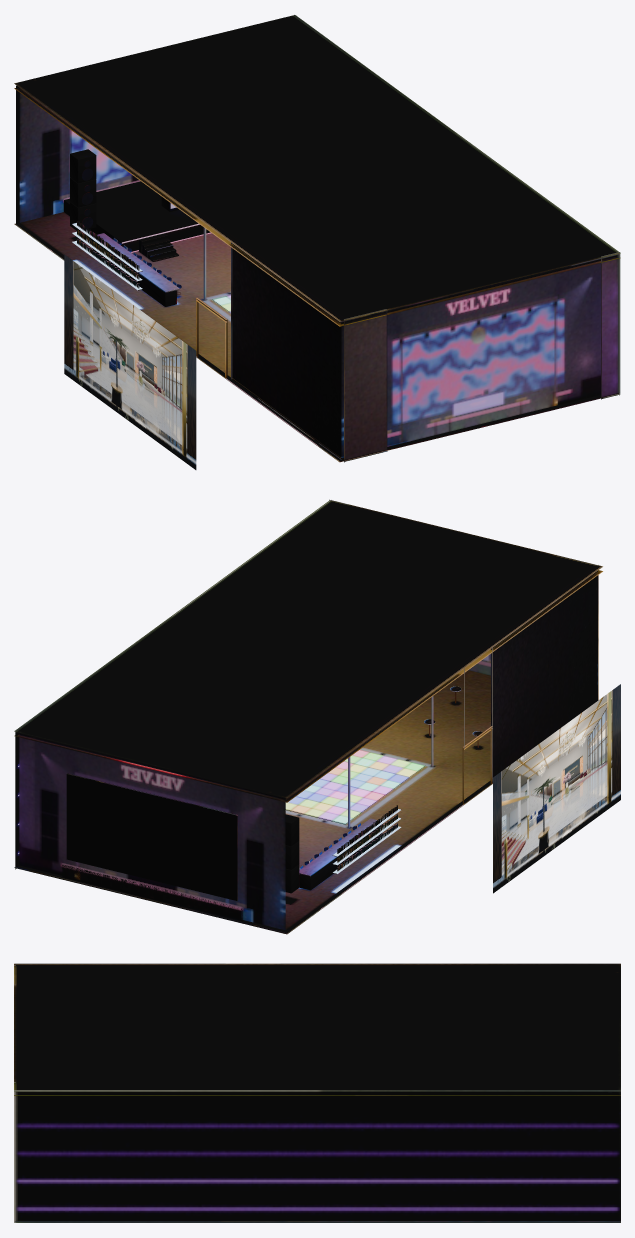
Rendered from int_eko_velvet.glb.
The picture shows the model from 3 angles, top to bottom: view 1: azimuth 30°, elevation 25°; view 2: azimuth 150°, elevation 25°; view 3: azimuth 270°, elevation 25°; orthographic projection. The views are drawn at different scales.
Parts seen in each view (by area): view 1: ROOM, VIEW_lobby; view 2: ROOM, VIEW_lobby; view 3: ROOM.
Part boxes in pixels (box(x1,y1,x2,y2)): ROOM: box(14, 15, 620, 462); VIEW_lobby: box(64, 254, 196, 469); ROOM: box(14, 499, 602, 934); VIEW_lobby: box(493, 684, 620, 893); ROOM: box(14, 963, 620, 1222).
Size of the model in its own units: 25.35 by 11.75 by 39.5.
Materials: 2 (2 with a texture image).
